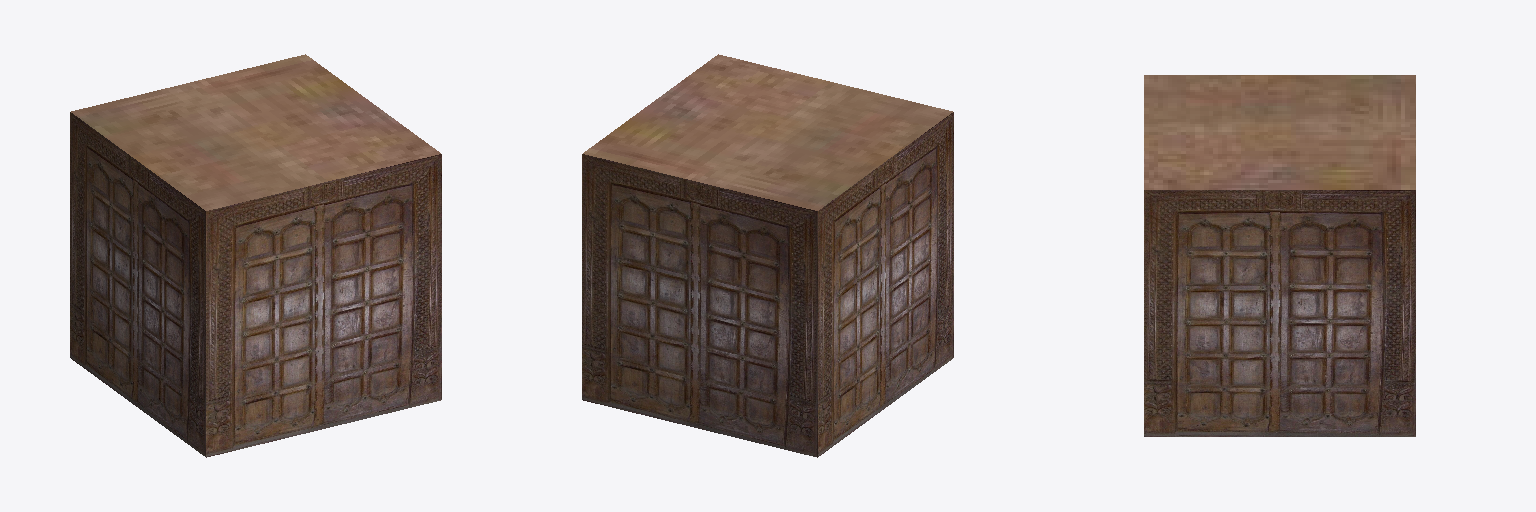
3 renders of one model, left to right at view 1: azimuth 30°, elevation 25°; view 2: azimuth 150°, elevation 25°; view 3: azimuth 270°, elevation 25°, orthographic.
Parts seen in each view (by area): view 1: cube1; view 2: cube1; view 3: cube1.
Part boxes in pixels (bbox=[...]): cube1: bbox=[70, 54, 441, 457]; cube1: bbox=[582, 54, 953, 457]; cube1: bbox=[1144, 75, 1415, 436].
Bounding box in the file's own units: 1 × 1 × 1.
Materials: 1 (1 with a texture image).